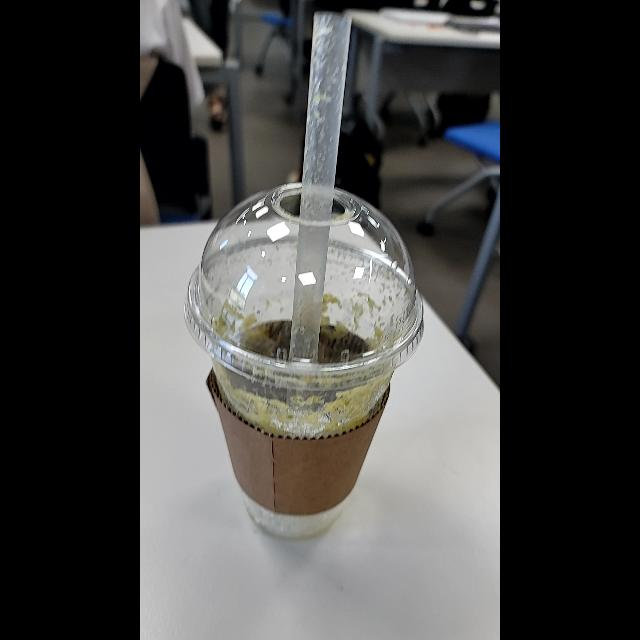plastic_cup: (190, 162, 426, 544)
plastic_cup_lid: (186, 178, 426, 390)
straw: (278, 21, 348, 375)
